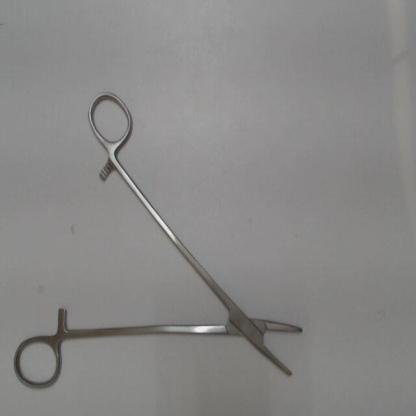8 Mayo Needle Holder: (9, 81, 317, 397)
